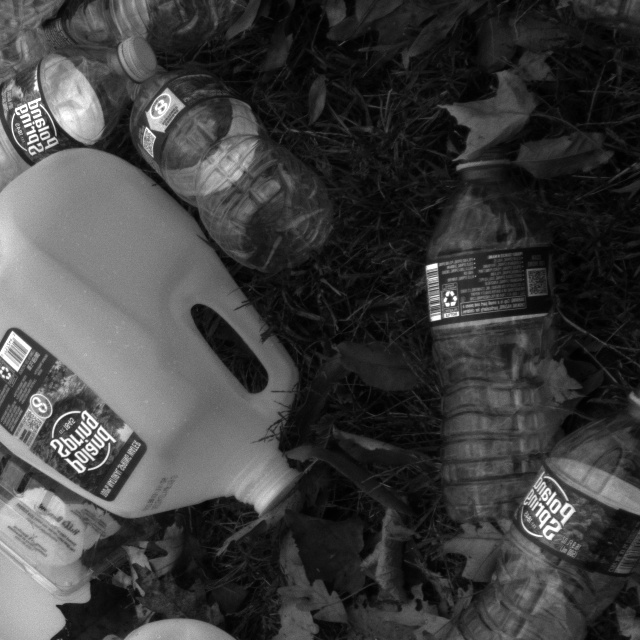bottle: (385, 145, 570, 555), (103, 48, 346, 264), (402, 446, 640, 640), (0, 24, 164, 225), (27, 0, 257, 100)
can: (0, 121, 336, 595), (0, 468, 105, 640)
container: (0, 363, 120, 576)
